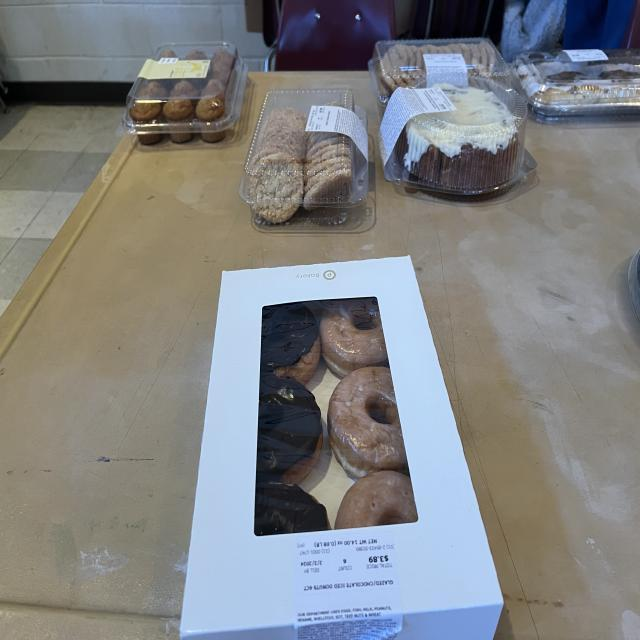Bread: (180, 257, 502, 638), (379, 73, 536, 195), (240, 88, 369, 228), (122, 42, 248, 143), (369, 38, 510, 117), (512, 50, 640, 115)
